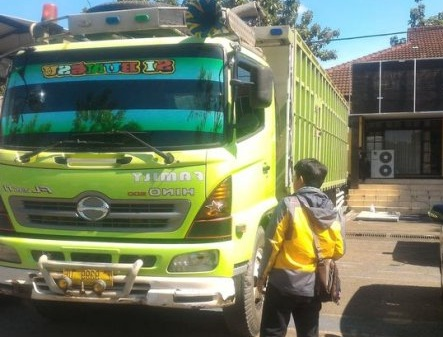plate: (62, 266, 111, 287)
